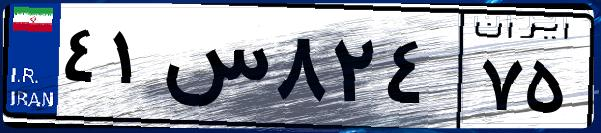1: (110, 28, 158, 98)
2: (330, 28, 385, 110)
4: (385, 28, 445, 110), (57, 26, 110, 100)
5: (525, 38, 570, 115)
7: (475, 38, 525, 113)
8: (270, 28, 330, 110)
س: (158, 20, 270, 120)
